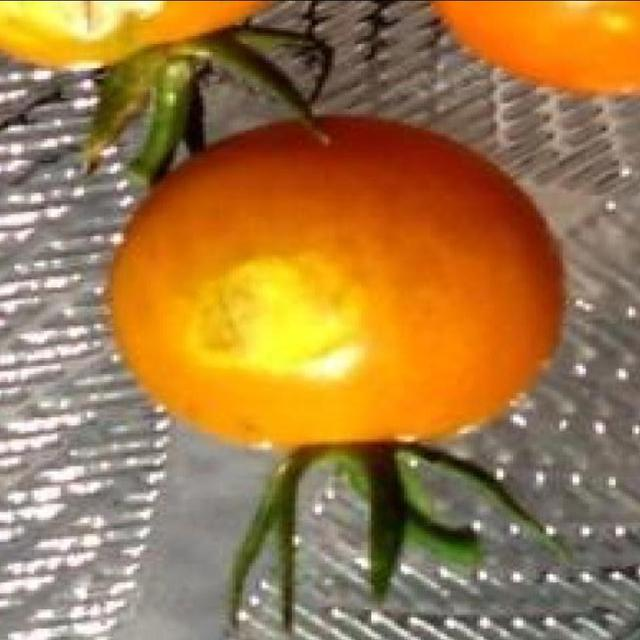Sunscald Fruit: (122, 150, 274, 250)
